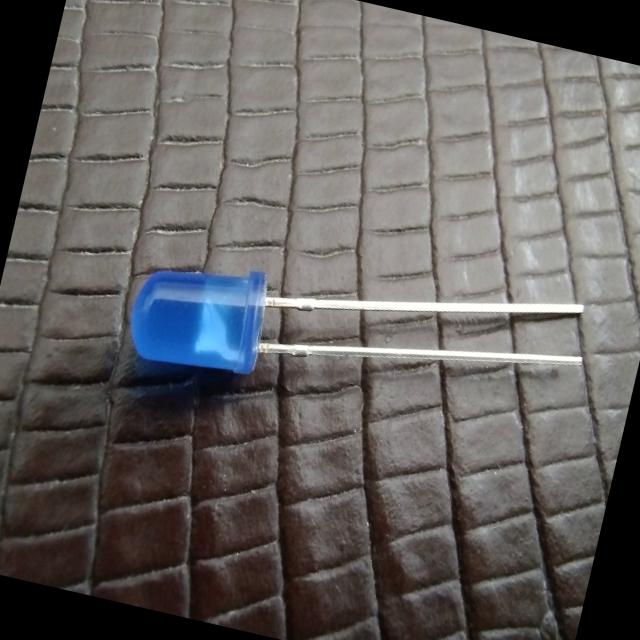blue_led: (120, 243, 277, 386)
